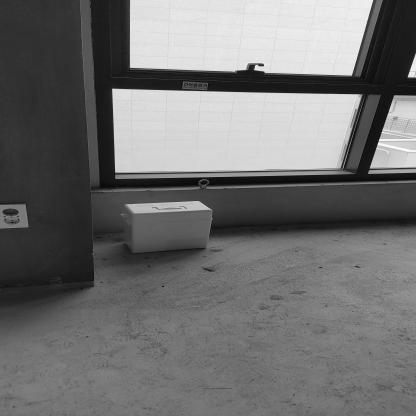DDL: (123, 202, 213, 253)
